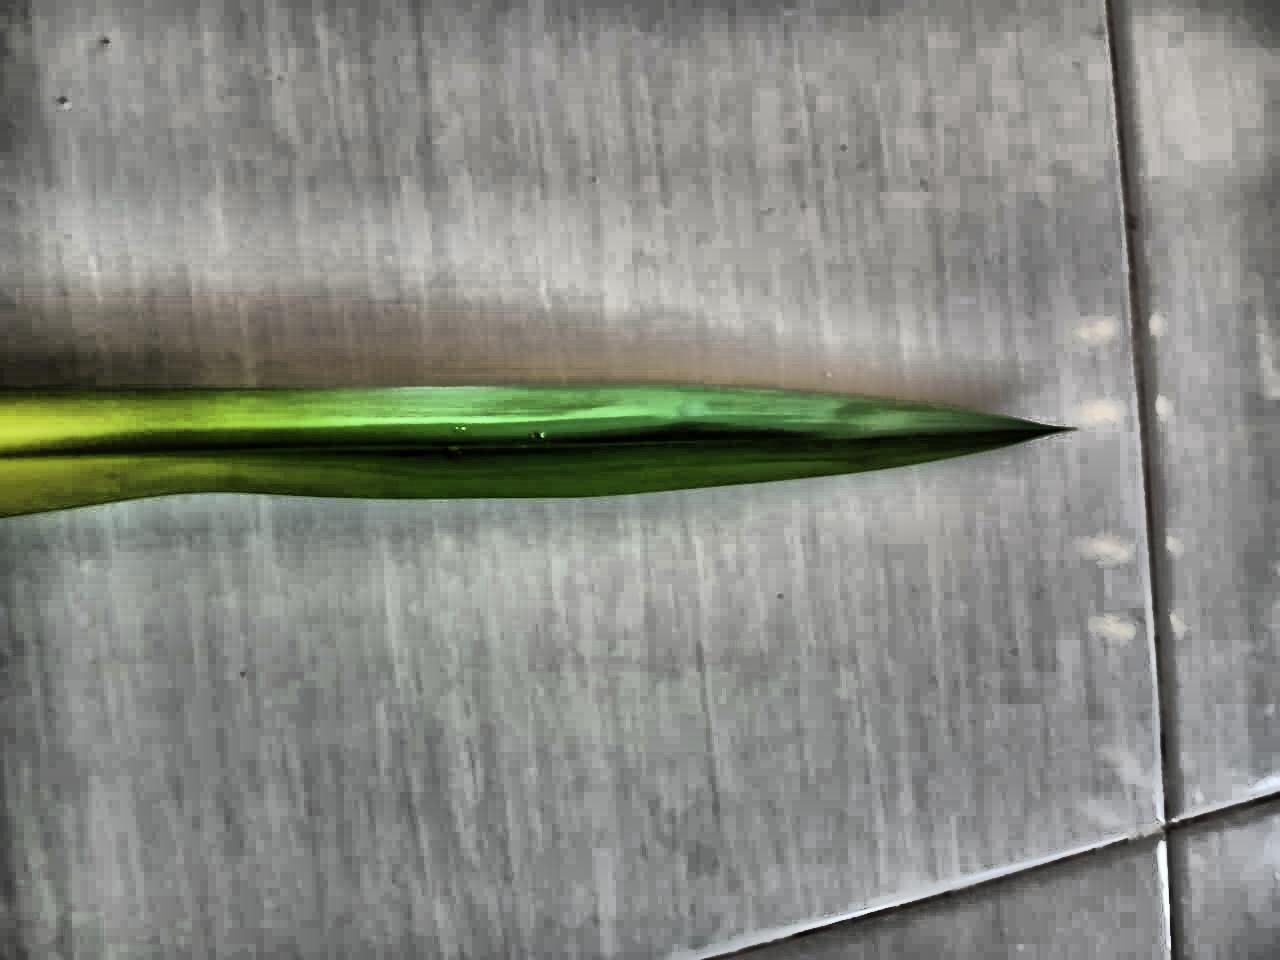daun pandan: (0, 386, 1065, 517)
